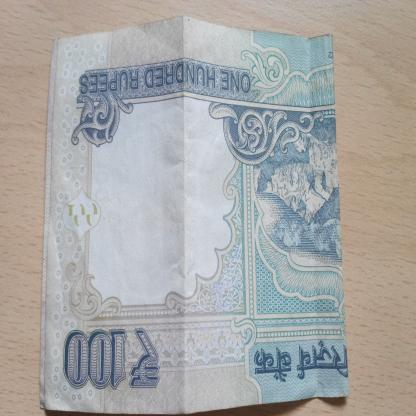Old100Back: (37, 15, 351, 416)
